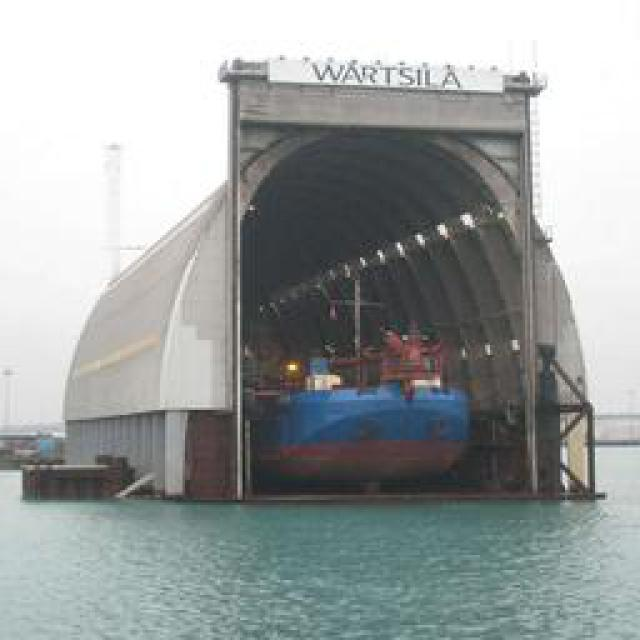Ship: (259, 360, 474, 488)
